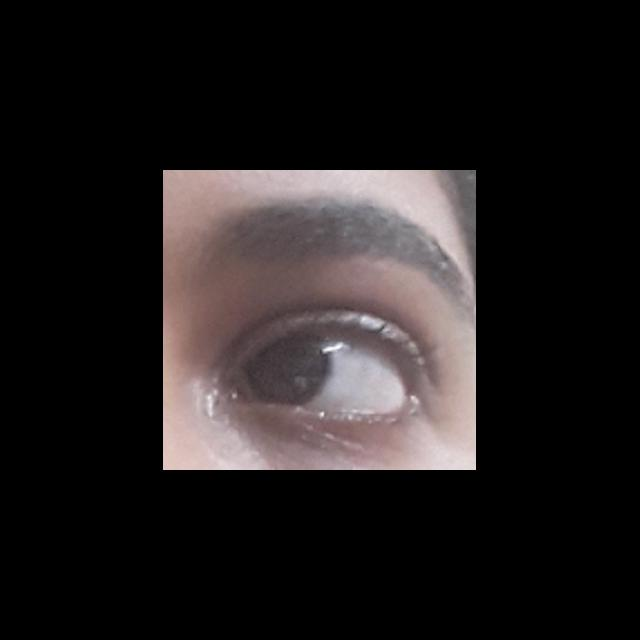eye: (245, 338, 408, 418)
iris: (248, 339, 331, 410)
